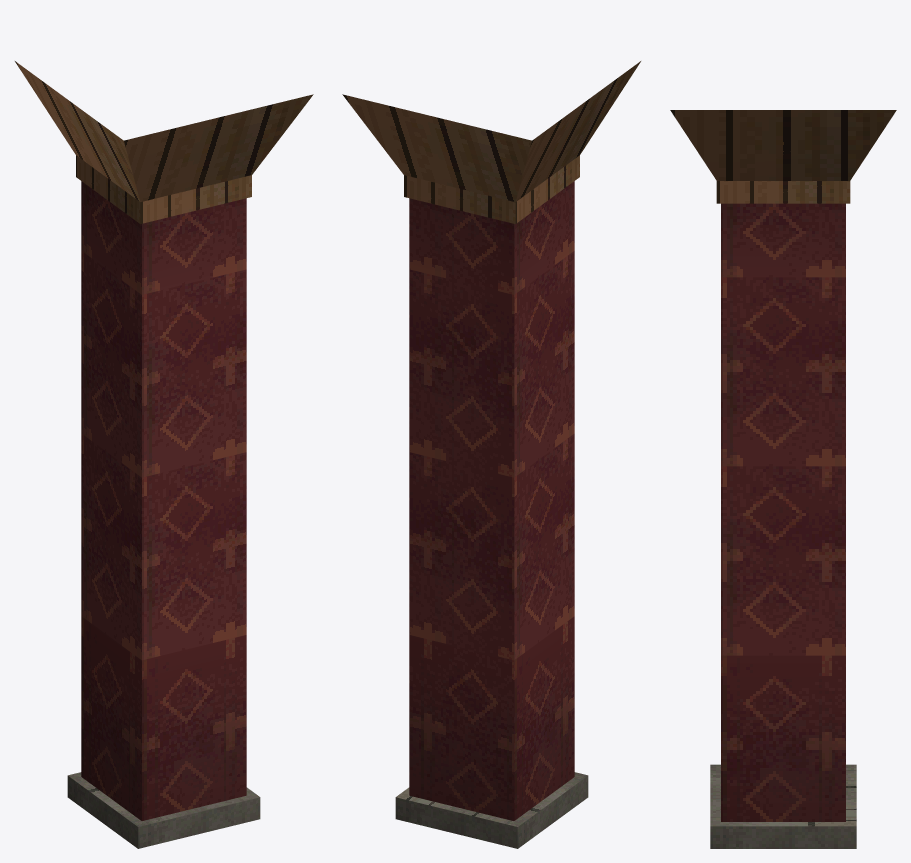
Rendered from column.glb.
The picture shows the model from 3 angles, left to right: view 1: azimuth 30°, elevation 25°; view 2: azimuth 150°, elevation 25°; view 3: azimuth 270°, elevation 25°; orthographic projection. The views are drawn at different scales.
Parts seen in each view (by area): view 1: column; view 2: column; view 3: column.
Part boxes in pixels (x1,y1,x2,y2): column: (15,61,313,848); column: (342,61,640,848); column: (670,110,896,848).
Bounding box in the file's own units: 1.09 × 4 × 1.09.
